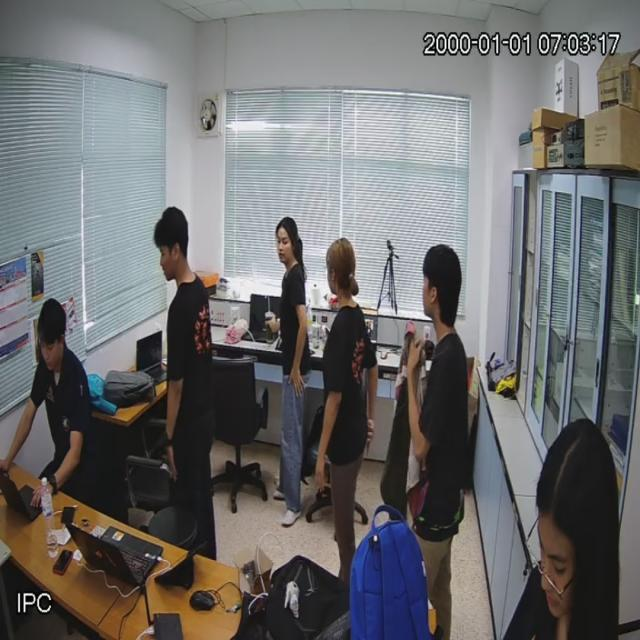normal: (502, 421, 618, 640), (156, 207, 223, 561), (411, 245, 468, 640), (317, 238, 379, 581), (11, 297, 106, 510), (268, 216, 303, 524)
